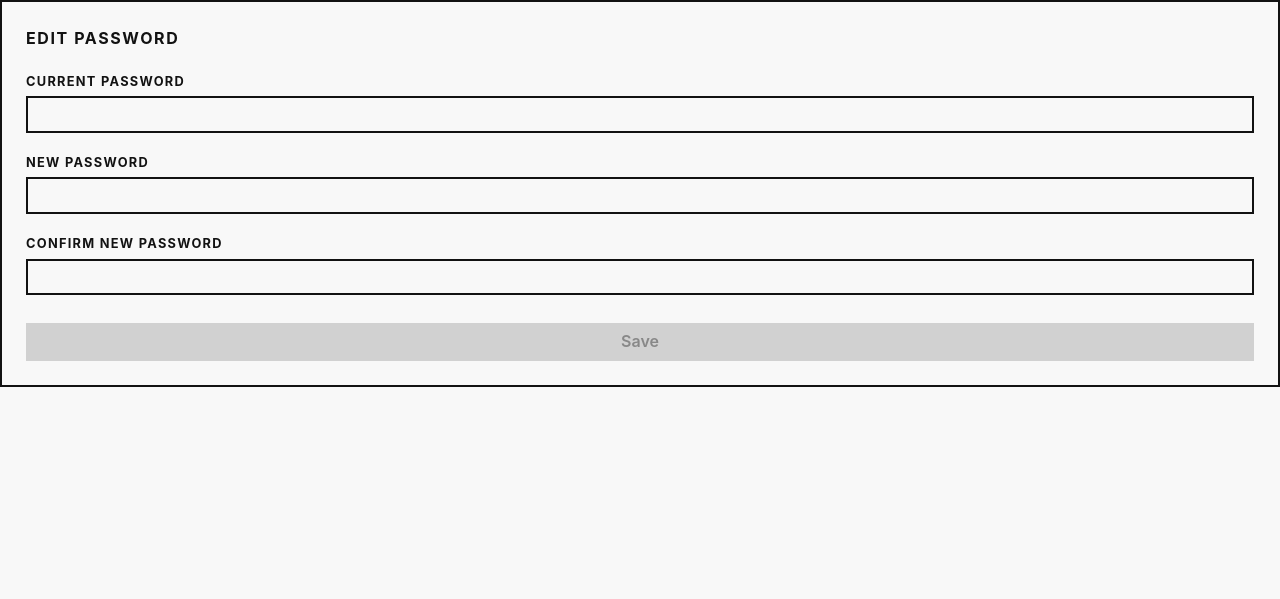
Test: renders password requirements when current password is not empty
Type "blah" into the password field named "currentPassword" at (640, 114), box x1=26 y1=96 x2=1254 y2=133
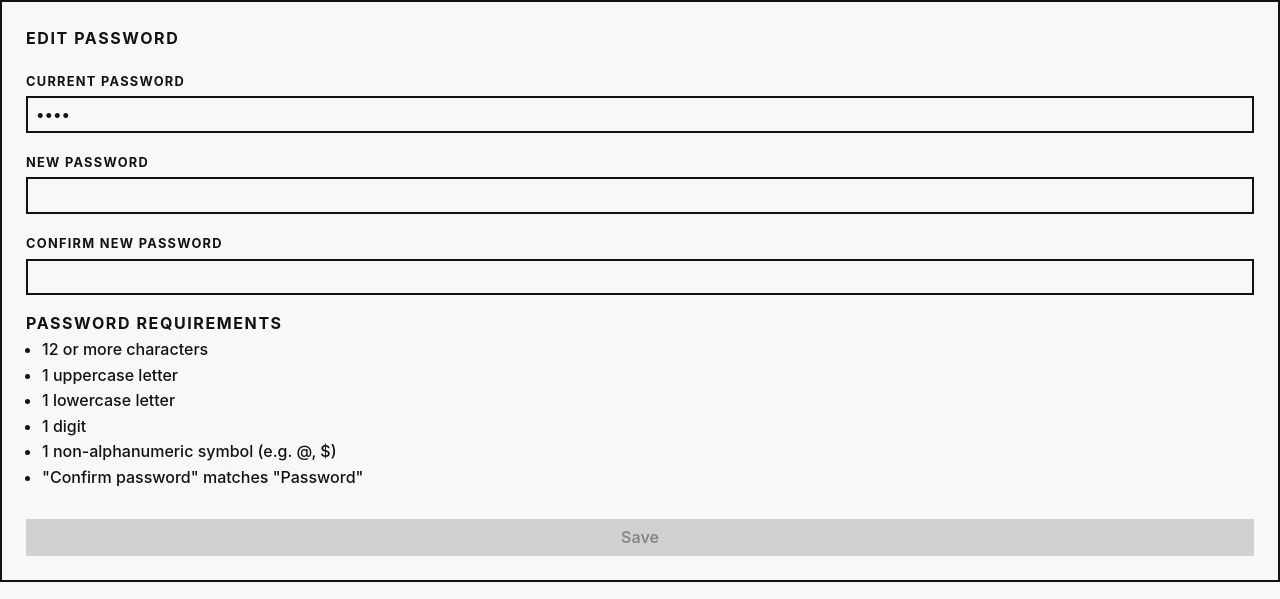
expect the element that starts with "Password requirements" is shown: met, box x1=26 y1=313 x2=364 y2=487
